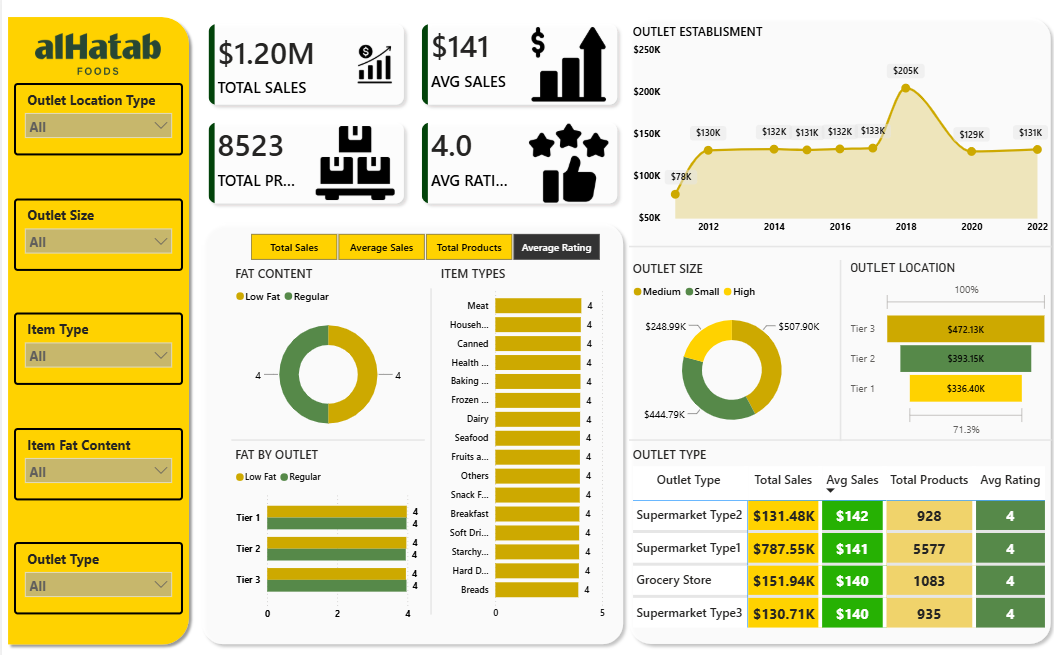

What the dashboard file says about the page in this screenshot:
{"tool":"powerbi","page":{"name":"Page 1","canvas":[1400,900],"ordinal":0},"visuals":[{"type":"shape","box":[0,32,256,848],"z":0},{"type":"textbox","box":[16,48,224,64],"z":1000},{"type":"cardVisual","fields":{"Data":["Grocery Data.Total Sales","Grocery Data.Average Sales","Grocery Data.Total Products","Grocery Data.Average Rating"]},"box":[256,32,576,272],"z":2000},{"type":"shape","box":[256,304,576,576],"z":3000},{"type":"slicer","fields":{"Values":["MATRIX.MATRIX"]},"box":[304,320,512,48],"z":4000},{"type":"donutChart","title":"FAT CONTENT","fields":{"Y":["Grocery Data.Average Rating"],"Category":["Grocery Data.Item Fat Content"]},"box":[304,368,256,240],"z":5000},{"type":"clusteredBarChart","title":"FAT BY OUTLET","fields":{"Y":["Grocery Data.Average Rating"],"Category":["Grocery Data.Outlet Location Type"],"Series":["Grocery Data.Item Fat Content"]},"box":[304,608,256,240],"z":6000},{"type":"shape","box":[304,592,256,16],"z":7000},{"type":"shape","box":[560,400,16,432],"z":8000},{"type":"barChart","title":"ITEM TYPES","fields":{"Y":["Grocery Data.Average Rating"],"Category":["Grocery Data.Item Type"]},"box":[576,368,256,480],"z":9000},{"type":"shape","box":[824,32,576,848],"z":10000},{"type":"lineChart","title":"OUTLET ESTABLISMENT","fields":{"Category":["Grocery Data.Outlet Establishment Year"],"Y":["Grocery Data.Total Sales"]},"box":[832,48,560,288],"z":11000},{"type":"shape","box":[832,336,560,16],"z":12000},{"type":"donutChart","title":"OUTLET SIZE","fields":{"Y":["Grocery Data.Total Sales"],"Category":["Grocery Data.Outlet Size"]},"box":[832,362.3,272,240],"z":13000},{"type":"shape","box":[1104,362.3,16,240],"z":14000},{"type":"funnel","title":"OUTLET LOCATION","fields":{"Y":["Grocery Data.Total Sales"],"Category":["Grocery Data.Outlet Location Type"]},"box":[1120,362.3,272,240],"z":15000},{"type":"shape","box":[832,592,560,16],"z":16000},{"type":"pivotTable","title":"OUTLET TYPE","fields":{"Rows":["Grocery Data.Outlet Type"],"Values":["Grocery Data.Total Sales","Grocery Data.Average Sales","Grocery Data.Total Products","Grocery Data.Average Rating"]},"box":[832,608,560,256],"z":17000},{"type":"slicer","fields":{"Values":["Grocery Data.Outlet Location Type"]},"box":[16,128,224,96],"z":18000},{"type":"slicer","fields":{"Values":["Grocery Data.Outlet Size"]},"box":[16,280,224,96],"z":19000},{"type":"slicer","fields":{"Values":["Grocery Data.Item Type"]},"box":[16,432,224,96],"z":20000},{"type":"slicer","fields":{"Values":["Grocery Data.Item Fat Content"]},"box":[16,584,224,96],"z":21000},{"type":"slicer","fields":{"Values":["Grocery Data.Outlet Type"]},"box":[16,736,224,96],"z":22000},{"type":"image","box":[27.8,0,198.8,177],"z":22001}]}

Visuals, with their boxes on the page's 1400x900 design canvas (x1, y1, x2, y2). These are canvas units, not pixel positions in the 1054x655 screenshot, which may show the page scaled, cropped or inside an application window:
shape: box=[0, 32, 256, 880]
textbox: box=[16, 48, 240, 112]
cardVisual - Grocery Data.Total Sales x Grocery Data.Average Sales: box=[256, 32, 832, 304]
shape: box=[256, 304, 832, 880]
slicer - MATRIX.MATRIX: box=[304, 320, 816, 368]
"FAT CONTENT" donutChart: box=[304, 368, 560, 608]
"FAT BY OUTLET" clusteredBarChart: box=[304, 608, 560, 848]
shape: box=[304, 592, 560, 608]
shape: box=[560, 400, 576, 832]
"ITEM TYPES" barChart: box=[576, 368, 832, 848]
shape: box=[824, 32, 1400, 880]
"OUTLET ESTABLISMENT" lineChart: box=[832, 48, 1392, 336]
shape: box=[832, 336, 1392, 352]
"OUTLET SIZE" donutChart: box=[832, 362, 1104, 602]
shape: box=[1104, 362, 1120, 602]
"OUTLET LOCATION" funnel: box=[1120, 362, 1392, 602]
shape: box=[832, 592, 1392, 608]
"OUTLET TYPE" pivotTable: box=[832, 608, 1392, 864]
slicer - Grocery Data.Outlet Location Type: box=[16, 128, 240, 224]
slicer - Grocery Data.Outlet Size: box=[16, 280, 240, 376]
slicer - Grocery Data.Item Type: box=[16, 432, 240, 528]
slicer - Grocery Data.Item Fat Content: box=[16, 584, 240, 680]
slicer - Grocery Data.Outlet Type: box=[16, 736, 240, 832]
image: box=[28, 0, 227, 177]
